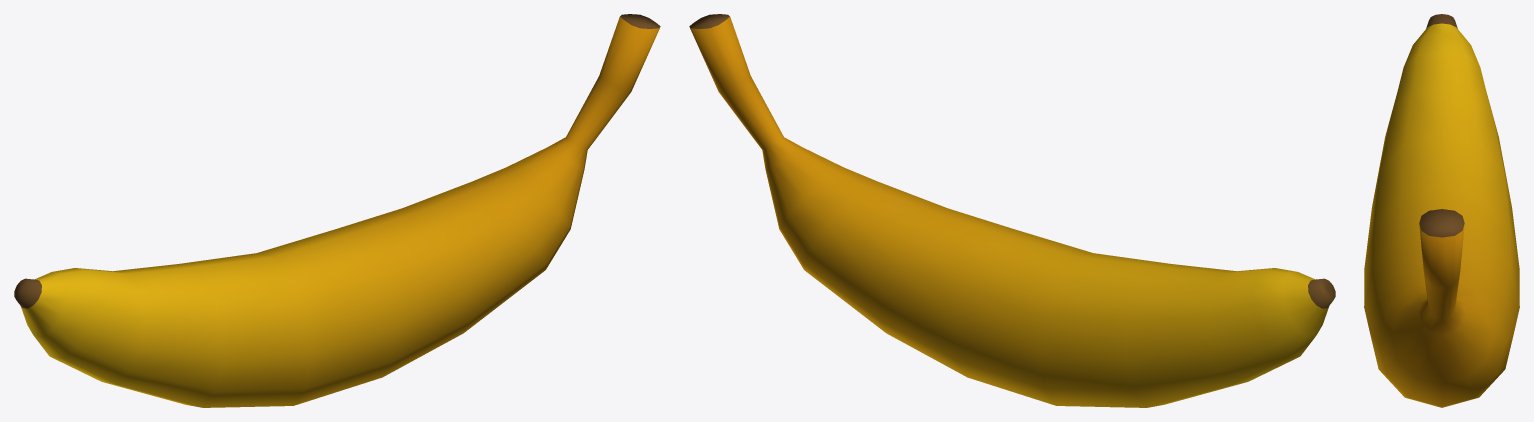
Rendered from Banana.fbx.
The picture shows the model from 3 angles, left to right: view 1: azimuth 30°, elevation 25°; view 2: azimuth 150°, elevation 25°; view 3: azimuth 270°, elevation 25°; orthographic projection. The views are drawn at different scales.
Visible parts, largest first — view 1: Banana; view 2: Banana; view 3: Banana.
Boxes of the visible parts, x1,y1,x2,y2 form: Banana: [14, 14, 660, 407]; Banana: [689, 14, 1335, 407]; Banana: [1364, 14, 1519, 407].
Size of the model in its own units: 149 by 66 by 28.45.
